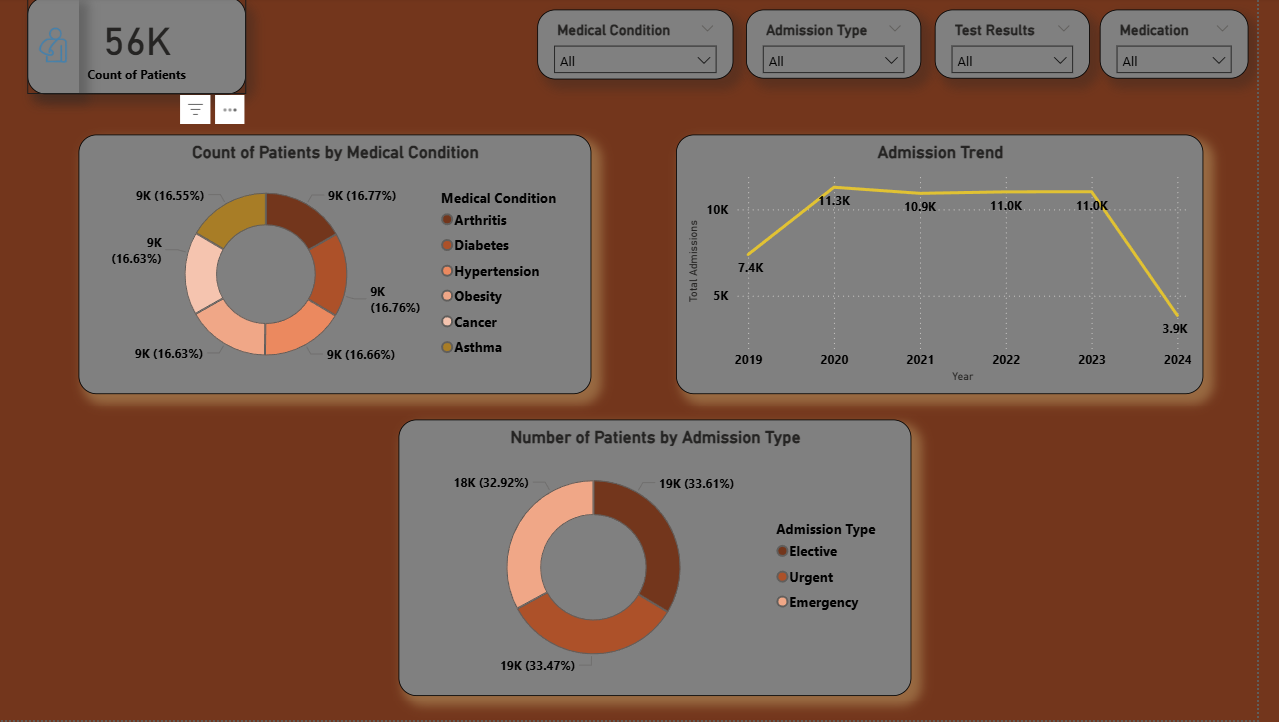

The page's visual inventory and layout, read from the dashboard file:
{"tool":"powerbi","page":{"name":"Page 3","canvas":[1280,720],"ordinal":2},"visuals":[{"type":"card","fields":{"Values":["healthcare_dataset.Count of Patients"]},"box":[56,0,217.7,97],"z":0},{"type":"slicer","fields":{"Values":["healthcare_dataset.Medical Condition"]},"box":[563.5,12.4,195.3,69.7],"z":1000},{"type":"slicer","fields":{"Values":["healthcare_dataset.Admission Type"]},"box":[771.3,12.4,174.2,68.4],"z":2000},{"type":"slicer","fields":{"Values":["healthcare_dataset.Test Results"]},"box":[959.1,12.4,154.3,68.4],"z":3000},{"type":"slicer","fields":{"Values":["healthcare_dataset.Medication"]},"box":[1123.3,12.4,148,68.4],"z":4000},{"type":"donutChart","fields":{"Y":["healthcare_dataset.Count of Patients"],"Category":["healthcare_dataset.Medical Condition"]},"box":[107,136.8,510,258.7],"z":5000},{"type":"donutChart","fields":{"Y":["healthcare_dataset.Number of Patients"],"Category":["healthcare_dataset.Admission Type"]},"box":[425.4,420.5,510,274.9],"z":6000},{"type":"lineChart","title":"Admission Trend","fields":{"Category":["healthcare_dataset.Date of Admission.Variation.Date Hierarchy.Year","healthcare_dataset.Date of Admission.Variation.Date Hierarchy.Quarter","healthcare_dataset.Date of Admission.Variation.Date Hierarchy.Month","healthcare_dataset.Date of Admission.Variation.Date Hierarchy.Day"],"Y":["healthcare_dataset.Total Admissions"]},"box":[701.6,136.8,525,258.7],"z":7000},{"type":"image","box":[56,0,51,97],"z":8000}]}

Visuals, with their boxes in screenshot pixels (x1, y1, x2, y2), scaled from the page's 1280x720 canvas onto the 1279x722 screenshot:
card - healthcare_dataset.Count of Patients: box=[56, 0, 273, 97]
slicer - healthcare_dataset.Medical Condition: box=[563, 12, 758, 82]
slicer - healthcare_dataset.Admission Type: box=[771, 12, 945, 81]
slicer - healthcare_dataset.Test Results: box=[958, 12, 1113, 81]
slicer - healthcare_dataset.Medication: box=[1122, 12, 1270, 81]
donutChart - healthcare_dataset.Count of Patients x healthcare_dataset.Medical Condition: box=[107, 137, 617, 397]
donutChart - healthcare_dataset.Number of Patients x healthcare_dataset.Admission Type: box=[425, 422, 935, 697]
"Admission Trend" lineChart: box=[701, 137, 1226, 397]
image: box=[56, 0, 107, 97]
